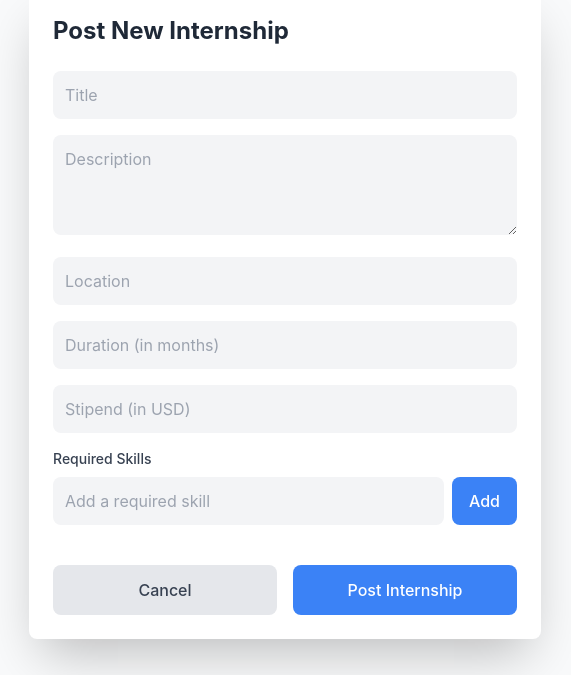
it: AddInternship › validates duration input
// Test invalid duration
Type "25" into the number field with placeholder "Duration (in months)" at (285,345), box [53,321,517,369]
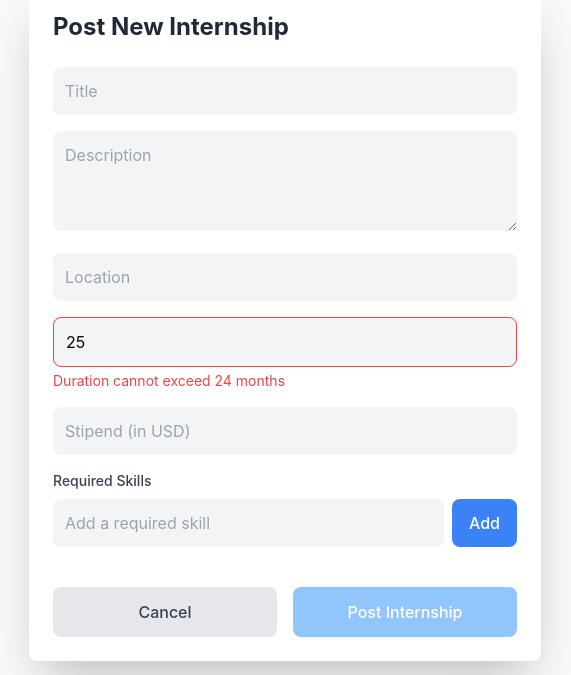
Expected: the text "Duration cannot exceed 24 months" is shown, [53,372,285,389]
// Test valid duration
Replace the text in the number field with placeholder "Duration (in months)" with "6" at (285,342), box [53,317,517,367]
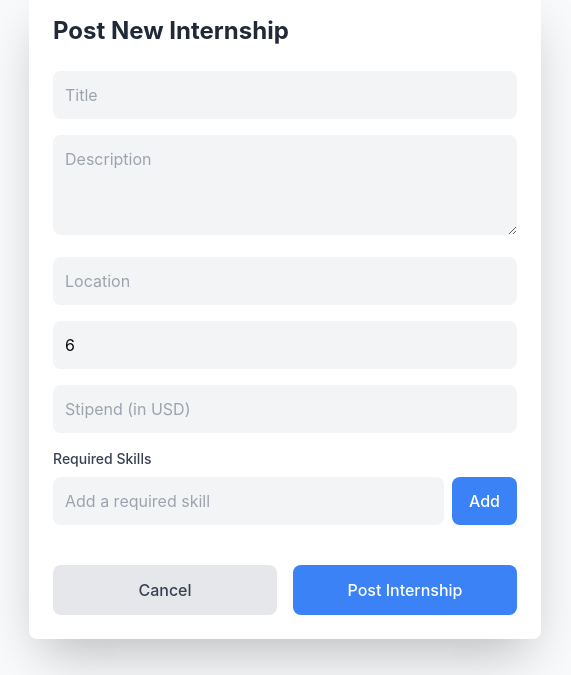
Expected: the text "Duration cannot exceed 24 months" is gone
